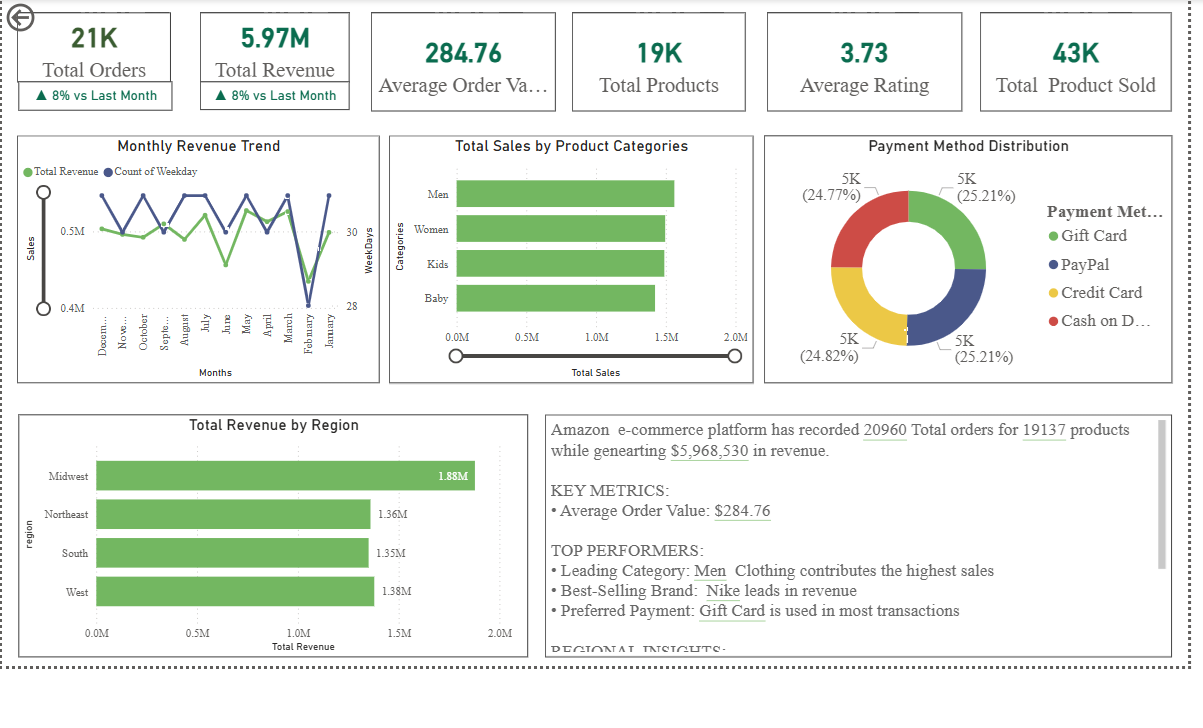

This screenshot's page, from the dashboard's own definition file:
{"tool":"powerbi","page":{"name":"Sales Overview ","canvas":[1280,720],"ordinal":0},"visuals":[{"type":"card","fields":{"Values":["Amazon.Total Orders"]},"box":[16.1,14.1,166.3,75.6],"z":0},{"type":"card","fields":{"Values":["Amazon.Total Revenue"]},"box":[213.7,14.1,161.3,75.6],"z":1000},{"type":"card","fields":{"Values":["Amazon.Average Order Value"]},"box":[399.1,14.1,199.6,106.8],"z":2000},{"type":"card","fields":{"Values":["Amazon.Total Products"]},"box":[615.8,14.1,187.5,106.8],"z":3000},{"type":"card","fields":{"Values":["Amazon.Average Rating"]},"box":[826.5,14.1,210.6,106.8],"z":4000},{"type":"lineChart","title":"Monthly Revenue Trend","fields":{"Y":["Amazon.Total Revenue"],"Category":["calendar.Date.Variation.Date Hierarchy.Month"],"Y2":["CountNonNull(calendar.Weekday)"]},"box":[16.1,147.1,391.1,267.1],"z":5000},{"type":"actionButton","box":[0,0,100,40],"z":6000},{"type":"barChart","title":"Total Sales by Product Categories","fields":{"Category":["Amazon.main_category"],"Y":["Amazon.Total Revenue"]},"box":[417,147.4,393.1,267.4],"z":7000},{"type":"clusteredBarChart","title":"Total Revenue by Region","fields":{"Category":["Amazon.region"],"Y":["Amazon.Total Revenue"]},"box":[17.1,448.5,550.3,262],"z":8000},{"type":"donutChart","title":"Payment Method Distribution","fields":{"Category":["Amazon.payment_method"],"Y":["Amazon.Total Orders"]},"box":[822.1,147.4,441,267.4],"z":9000},{"type":"textbox","box":[586.4,448.3,676.7,262.2],"z":11000},{"type":"card","fields":{"Values":["Amazon.Total  Product Sold"]},"box":[1056.3,14.1,206.6,106.8],"z":12000},{"type":"card","fields":{"Values":["Amazon.Revenue KPI"]},"box":[17.1,89.7,166.3,31.2],"z":18000},{"type":"card","fields":{"Values":["Amazon.Revenue Growth Display"]},"box":[213.5,89.8,161.6,30.9],"z":19000}]}

Visuals, with their boxes in screenshot pixels (x1, y1, x2, y2):
card - Amazon.Total Orders: 12/10/166/80
card - Amazon.Total Revenue: 195/10/344/80
card - Amazon.Average Order Value: 367/10/552/109
card - Amazon.Total Products: 568/10/741/109
card - Amazon.Average Rating: 763/10/958/109
"Monthly Revenue Trend" lineChart: 12/133/374/381
actionButton: 0/0/90/34
"Total Sales by Product Categories" barChart: 383/133/748/381
"Total Revenue by Region" clusteredBarChart: 13/413/523/655
"Payment Method Distribution" donutChart: 759/133/1168/381
textbox: 540/412/1168/655
card - Amazon.Total  Product Sold: 976/10/1167/109
card - Amazon.Revenue KPI: 13/80/167/109
card - Amazon.Revenue Growth Display: 195/80/345/109
